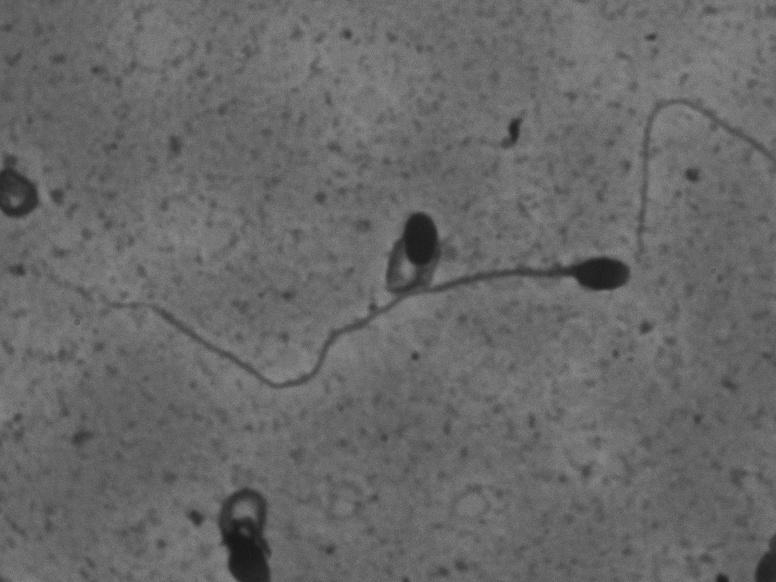Abnormal: (373, 198, 450, 301)
Normal: (90, 245, 636, 417)
